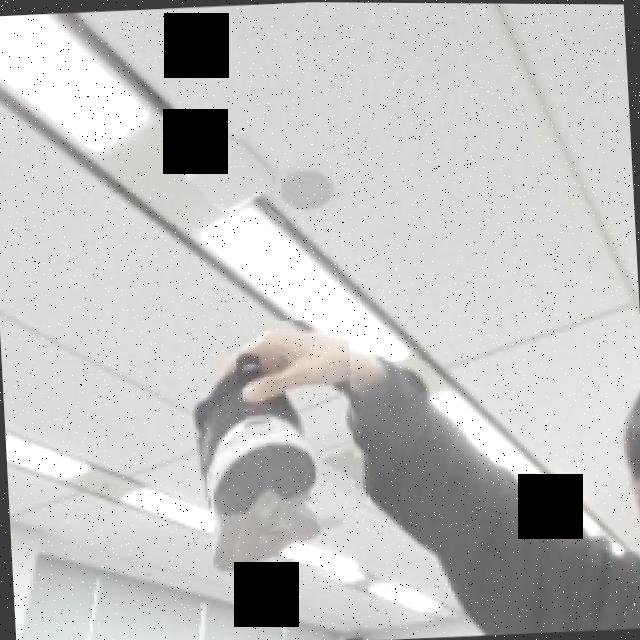shoe: (174, 317, 362, 590)
